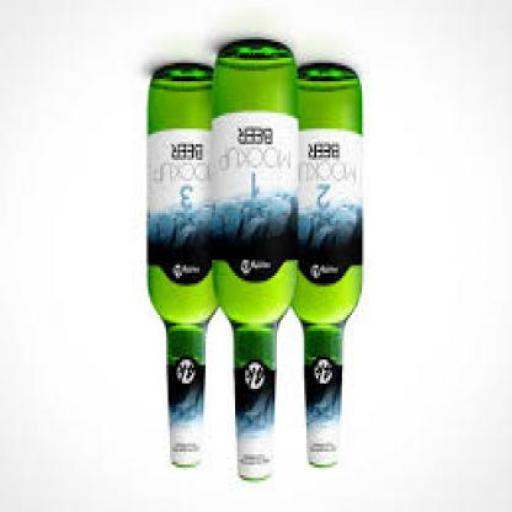glass: (214, 45, 302, 483), (289, 66, 366, 469), (150, 66, 224, 469)
